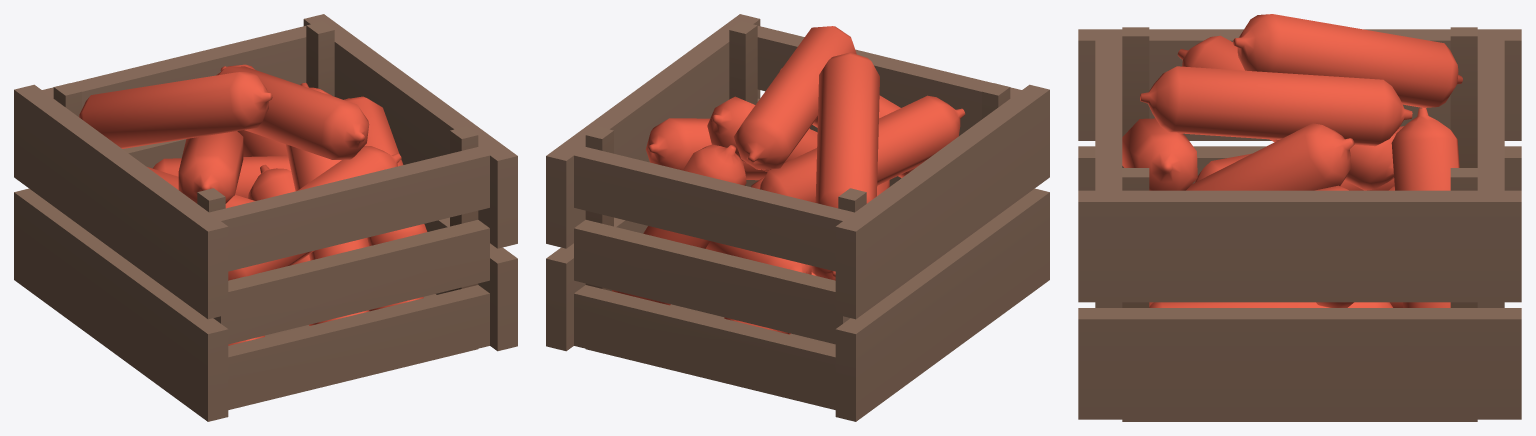
Rendered from box-with-sausages.glb.
The picture shows the model from 3 angles, left to right: view 1: azimuth 30°, elevation 25°; view 2: azimuth 150°, elevation 25°; view 3: azimuth 270°, elevation 25°; orthographic projection. The views are drawn at different scales.
Visible parts, largest first — view 1: BoxWithSausages.001; view 2: BoxWithSausages.001; view 3: BoxWithSausages.001.
Part boxes in pixels (box(x1,y1,x2,y2)): BoxWithSausages.001: box(14, 14, 517, 421); BoxWithSausages.001: box(546, 14, 1049, 421); BoxWithSausages.001: box(1078, 14, 1521, 421).
Bounding box in the file's own units: 0.5862 × 0.4909 × 0.6357.
1 material, 1 textured.
